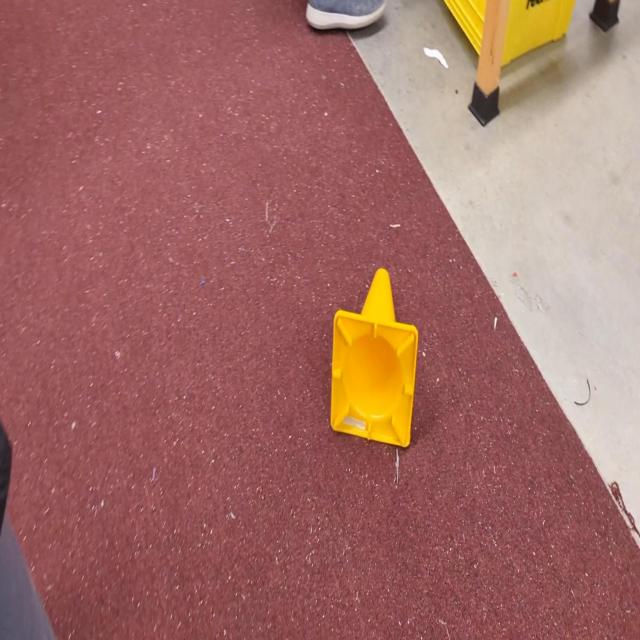frc_cone: (332, 268, 419, 448)
